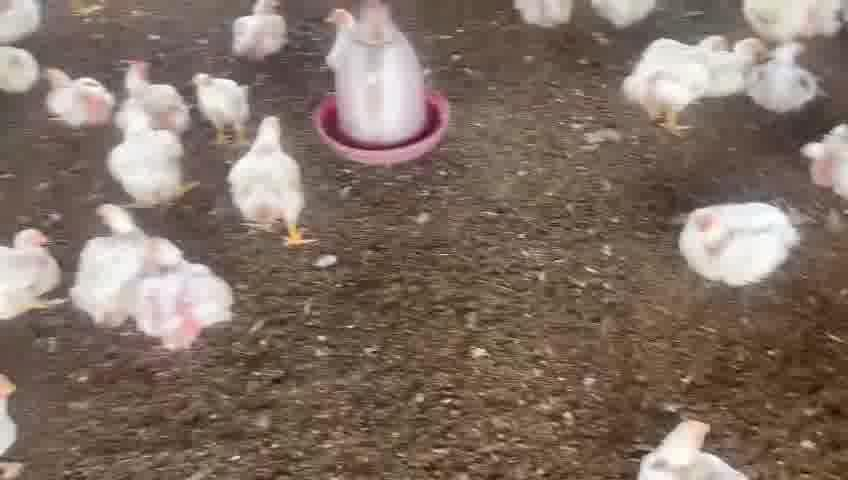AbNormal: (135, 231, 233, 343), (80, 206, 153, 327), (680, 207, 795, 283), (1, 221, 60, 320), (46, 63, 113, 127), (754, 43, 814, 112), (228, 2, 287, 62)
Normal: (230, 110, 313, 247), (628, 30, 735, 134), (110, 103, 194, 208), (195, 72, 249, 142)
